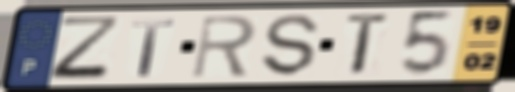5: (396, 8, 460, 80)
R: (189, 13, 260, 80)
S: (261, 13, 323, 79)
T: (343, 11, 394, 79), (130, 17, 178, 79)
Z: (47, 15, 126, 82)
